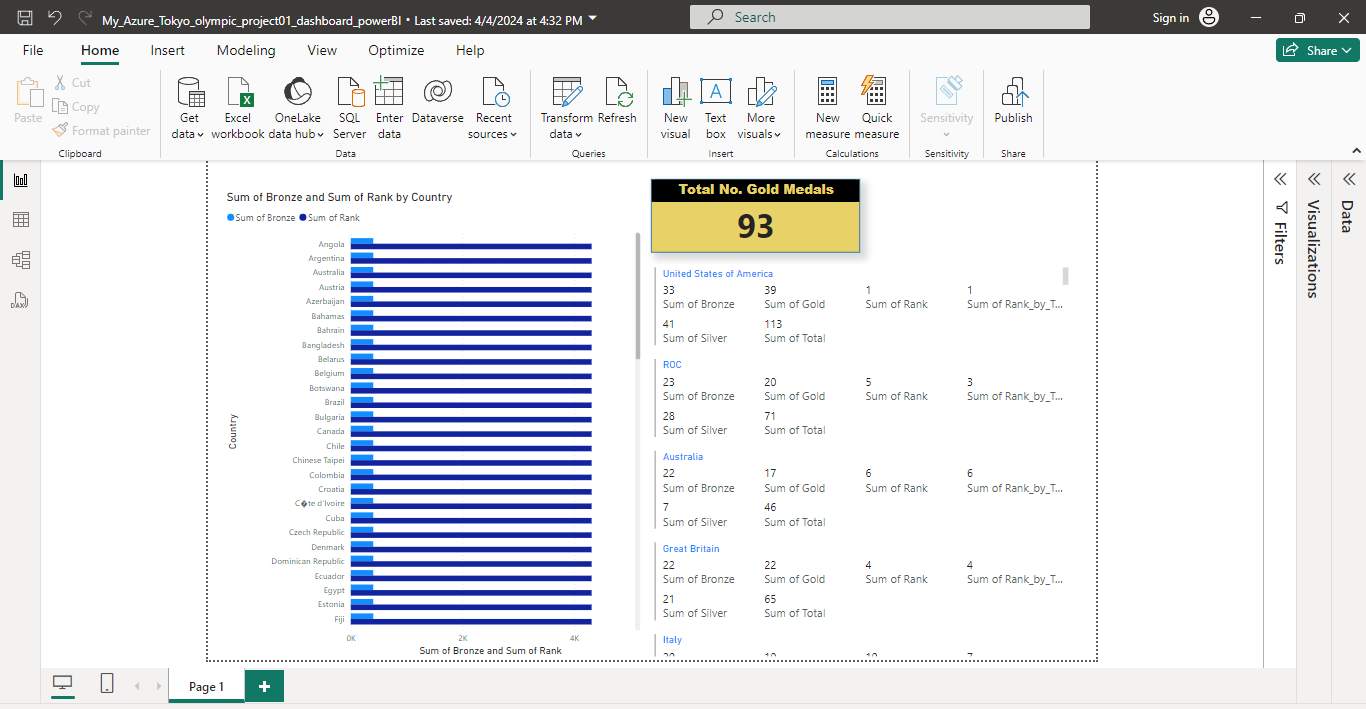

Layout of this report page (visuals, bound fields, positions):
{"tool":"powerbi","page":{"name":"Page 1","canvas":[1280,720],"ordinal":0},"visuals":[{"type":"textbox","title":"Total No. Gold Medals","box":[638.3,26.9,300.7,105.8],"z":0},{"type":"clusteredBarChart","fields":{"Category":["teams.Country"],"Y":["Sum(medals.Bronze)","Sum(medals.Rank)"]},"box":[21.8,43.7,606.4,677],"z":1},{"type":"multiRowCard","fields":{"Values":["Sum(medals.Bronze)","Sum(medals.Gold)","Sum(medals.Rank)","Sum(medals.Rank_by_Total)","Sum(medals.Silver)","medals.Team_Country","Sum(medals.Total)"]},"box":[638,150,606,570],"z":2}]}

Visuals, with their boxes on the page's 1280x720 design canvas (x1, y1, x2, y2). These are canvas units, not pixel positions in the 1366x709 screenshot, which may show the page scaled, cropped or inside an application window:
"Total No. Gold Medals" textbox: <box>638,27,939,133</box>
clusteredBarChart - teams.Country x Sum(medals.Bronze): <box>22,44,628,721</box>
multiRowCard - Sum(medals.Bronze) x Sum(medals.Gold): <box>638,150,1244,720</box>
